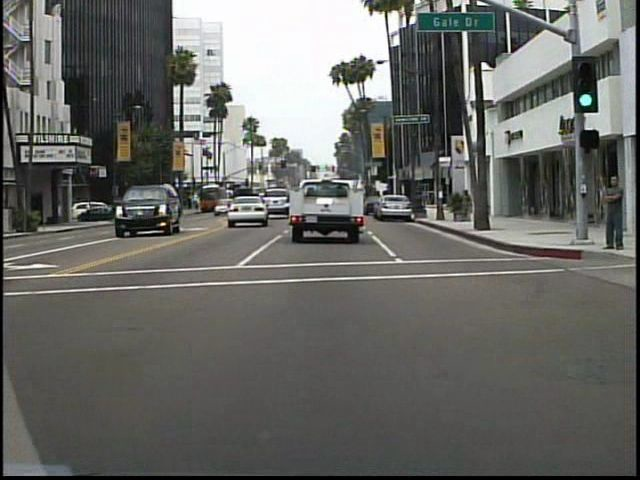person: (596, 167, 624, 256), (457, 185, 474, 220)
